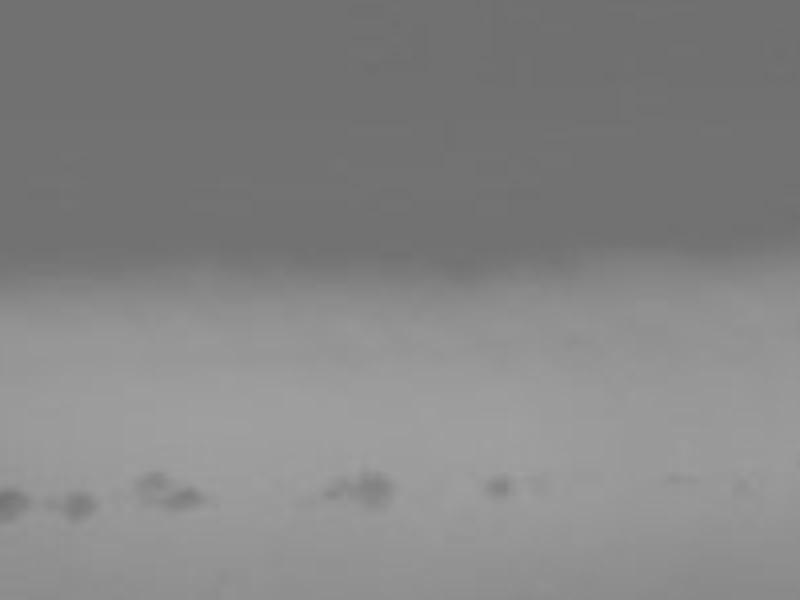defect: (350, 471, 390, 513), (58, 493, 95, 529), (161, 487, 208, 513), (2, 490, 32, 524), (660, 469, 704, 487), (323, 476, 349, 502), (135, 469, 168, 489), (485, 475, 511, 498), (728, 470, 753, 493), (42, 494, 58, 511)
